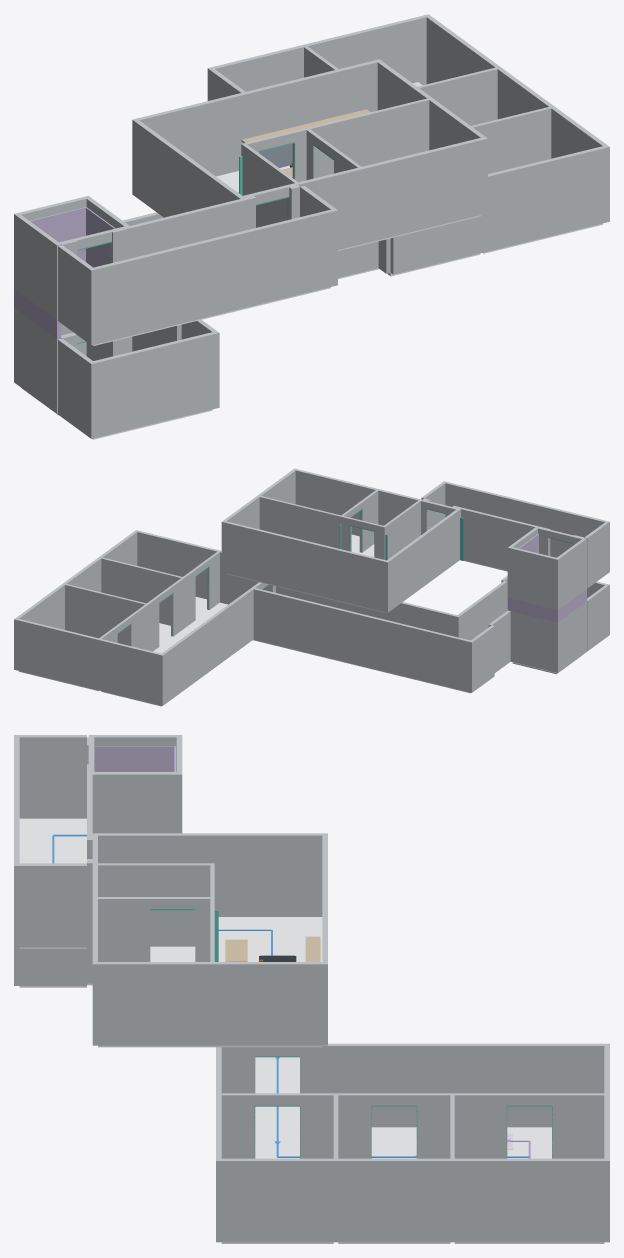
Rendered from batiment_complet.glb.
3 views of the same model, one above another, from view 1: azimuth 30°, elevation 25°; view 2: azimuth 150°, elevation 25°; view 3: azimuth 270°, elevation 25° (orthographic). The views are drawn at different scales.
Visible parts, largest first — view 1: N1, RDC, liaison_gaine_0, N1_comptoir_plateau; view 2: RDC, N1, liaison_gaine_2, liaison_gaine_0; view 3: RDC, N1.
Part boxes in pixels (x1=…): N1: x1=14, y1=59, x2=487, y2=345; RDC: x1=14, y1=14, x2=609, y2=439; liaison_gaine_0: x1=14, y1=289, x2=61, y2=338; N1_comptoir_plateau: x1=241, y1=109, x2=370, y2=142; RDC: x1=14, y1=530, x2=609, y2=706; N1: x1=221, y1=468, x2=609, y2=613; liaison_gaine_2: x1=510, y1=599, x2=554, y2=621; liaison_gaine_0: x1=555, y1=589, x2=586, y2=622; RDC: x1=14, y1=944, x2=609, y2=1243; N1: x1=14, y1=735, x2=327, y2=1047.
Bounding box in the file's own units: 20.52 × 5.55 × 15.94.
